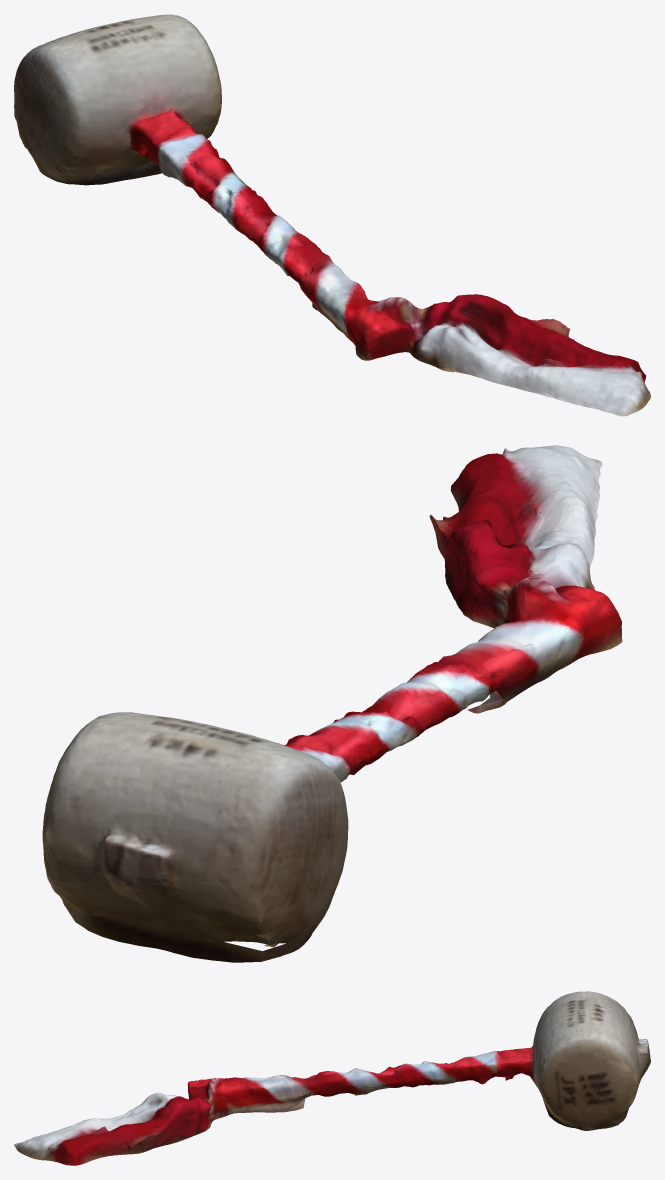
Rendered from kine.glb.
The picture shows the model from 3 angles, top to bottom: view 1: azimuth 30°, elevation 25°; view 2: azimuth 150°, elevation 25°; view 3: azimuth 270°, elevation 25°; orthographic projection. The views are drawn at different scales.
Parts seen in each view (by area): view 1: mesh; view 2: mesh; view 3: mesh.
Part boxes in pixels (bbox=[...]): mesh: bbox=[14, 14, 650, 416]; mesh: bbox=[42, 445, 622, 962]; mesh: bbox=[14, 991, 650, 1165].
Size of the model in its own units: 0.1453 by 0.0682 by 0.425.
Materials: 1 (1 with a texture image).
